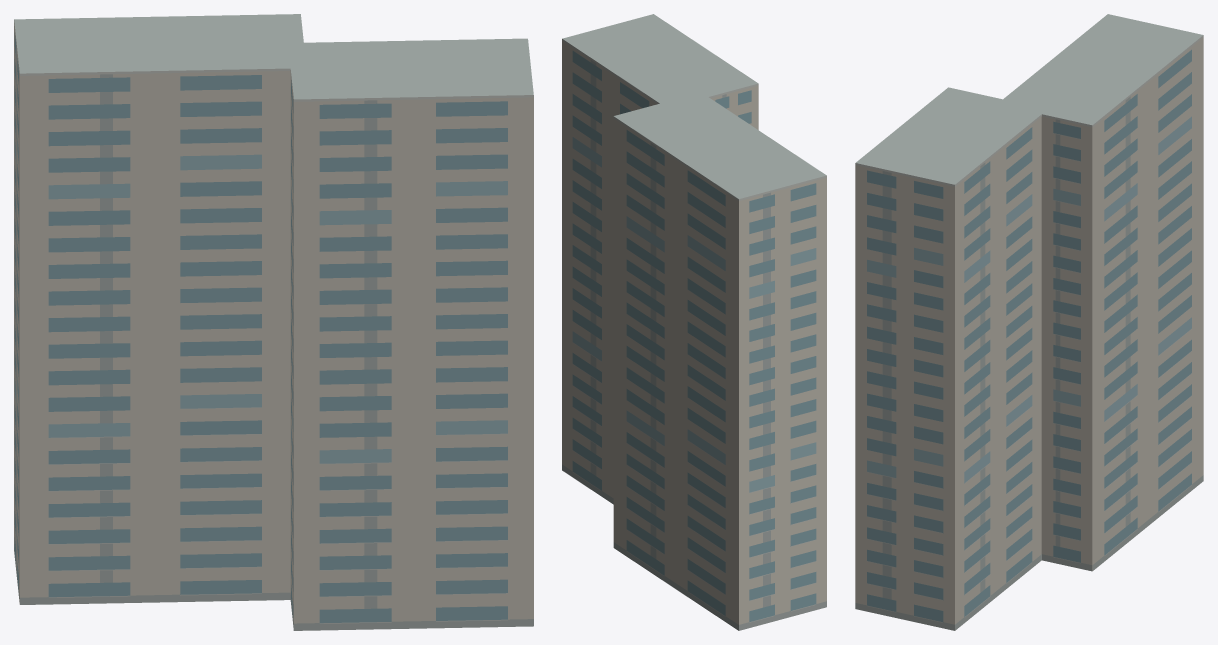
File: residential-af92eec1-45e3-49dd-a848-f8a40abccb6d.glb
3 renders of one model, left to right at view 1: azimuth 30°, elevation 25°; view 2: azimuth 150°, elevation 25°; view 3: azimuth 270°, elevation 25°, orthographic. The views are drawn at different scales.
Parts seen in each view (by area): view 1: residential-af92eec1-45e3-49dd-a848-f8a40abccb6d.tmp; view 2: residential-af92eec1-45e3-49dd-a848-f8a40abccb6d.tmp; view 3: residential-af92eec1-45e3-49dd-a848-f8a40abccb6d.tmp.
Part boxes in pixels (x1,y1,x2,y2): residential-af92eec1-45e3-49dd-a848-f8a40abccb6d.tmp: [14, 14, 533, 630]; residential-af92eec1-45e3-49dd-a848-f8a40abccb6d.tmp: [562, 14, 826, 630]; residential-af92eec1-45e3-49dd-a848-f8a40abccb6d.tmp: [855, 14, 1203, 630].
Bounding box in the file's own units: 44.35 × 54 × 38.2.
